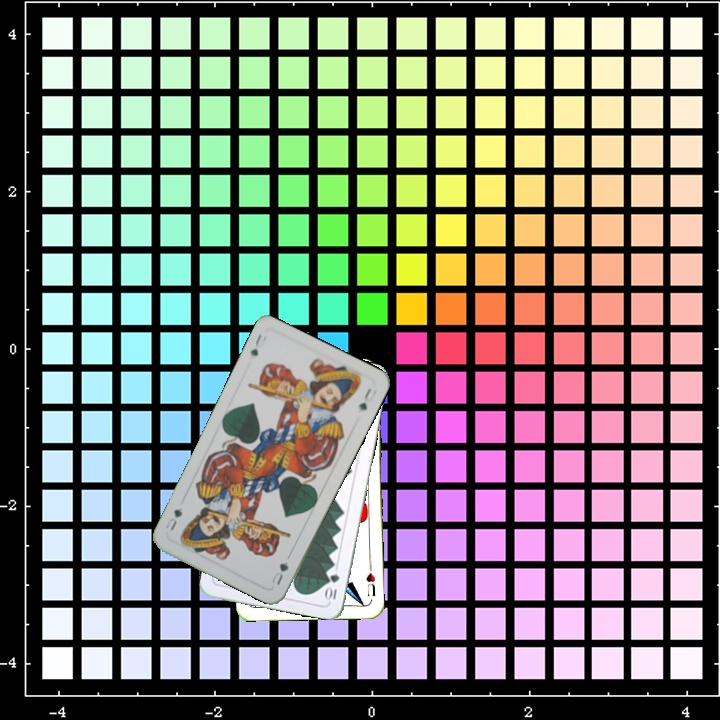G10: (322, 570, 342, 604)
GU: (267, 551, 293, 588), (246, 330, 269, 359)
HU: (362, 562, 378, 599)
